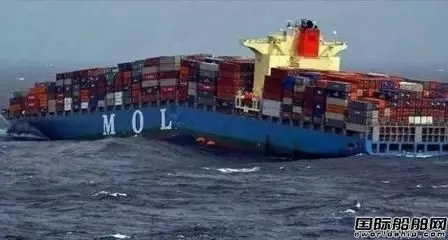Cargoship: (2, 20, 448, 152)
